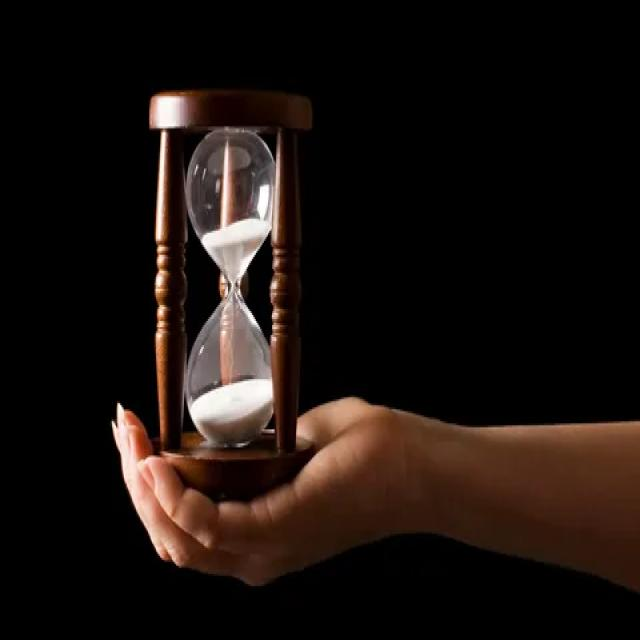clock: (132, 75, 325, 489)
